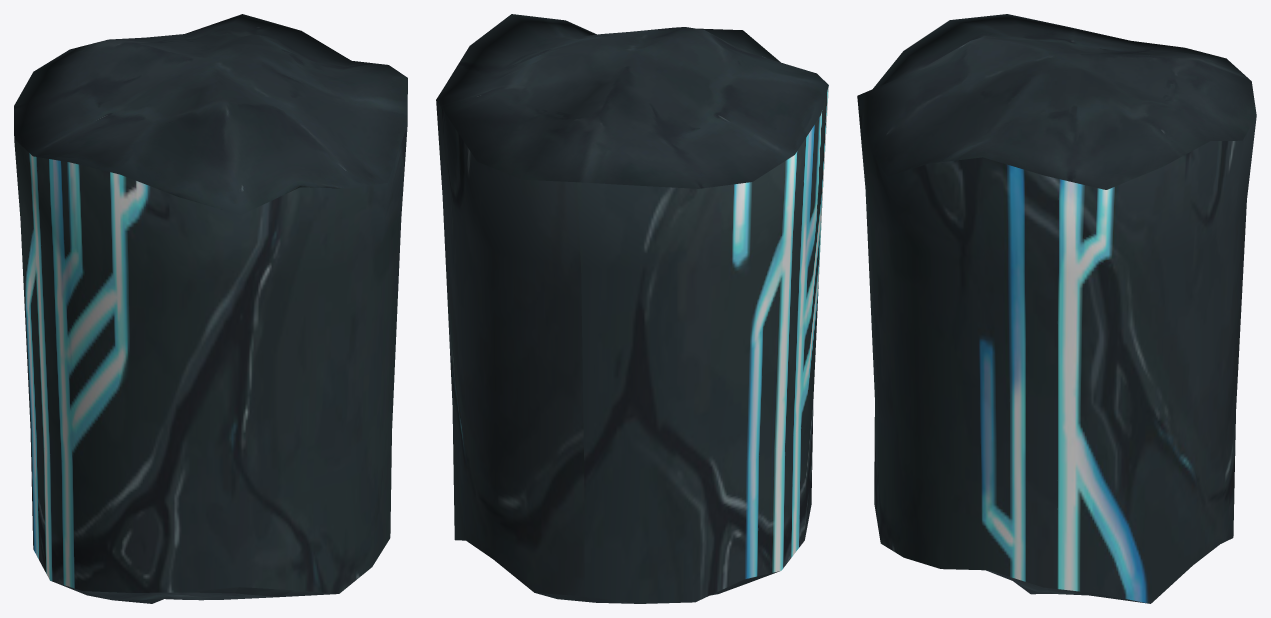
File: pillar_INTERACTABLE_mid_above.fbx
3 renders of one model, left to right at view 1: azimuth 30°, elevation 25°; view 2: azimuth 150°, elevation 25°; view 3: azimuth 270°, elevation 25°, orthographic.
Visible parts, largest first — view 1: pillar_INTERACTABLE_mid_above; view 2: pillar_INTERACTABLE_mid_above; view 3: pillar_INTERACTABLE_mid_above.
Part boxes in pixels (box(x1,y1,x2,y2)): pillar_INTERACTABLE_mid_above: box(14, 14, 407, 603); pillar_INTERACTABLE_mid_above: box(436, 14, 828, 603); pillar_INTERACTABLE_mid_above: box(857, 14, 1256, 603).
Size of the model in its own units: 62.96 by 93.25 by 64.25.
1 material, 1 textured.
